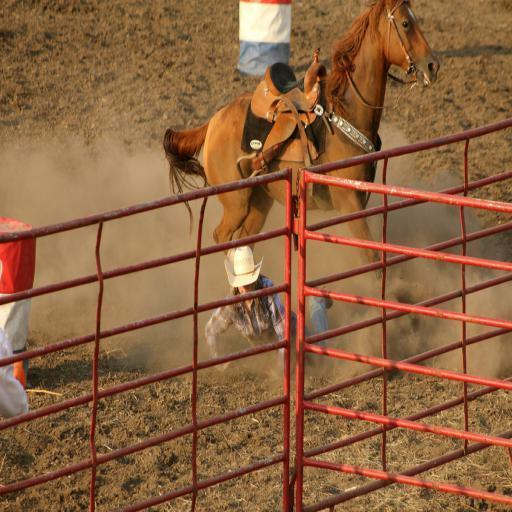horse: (158, 0, 440, 289)
